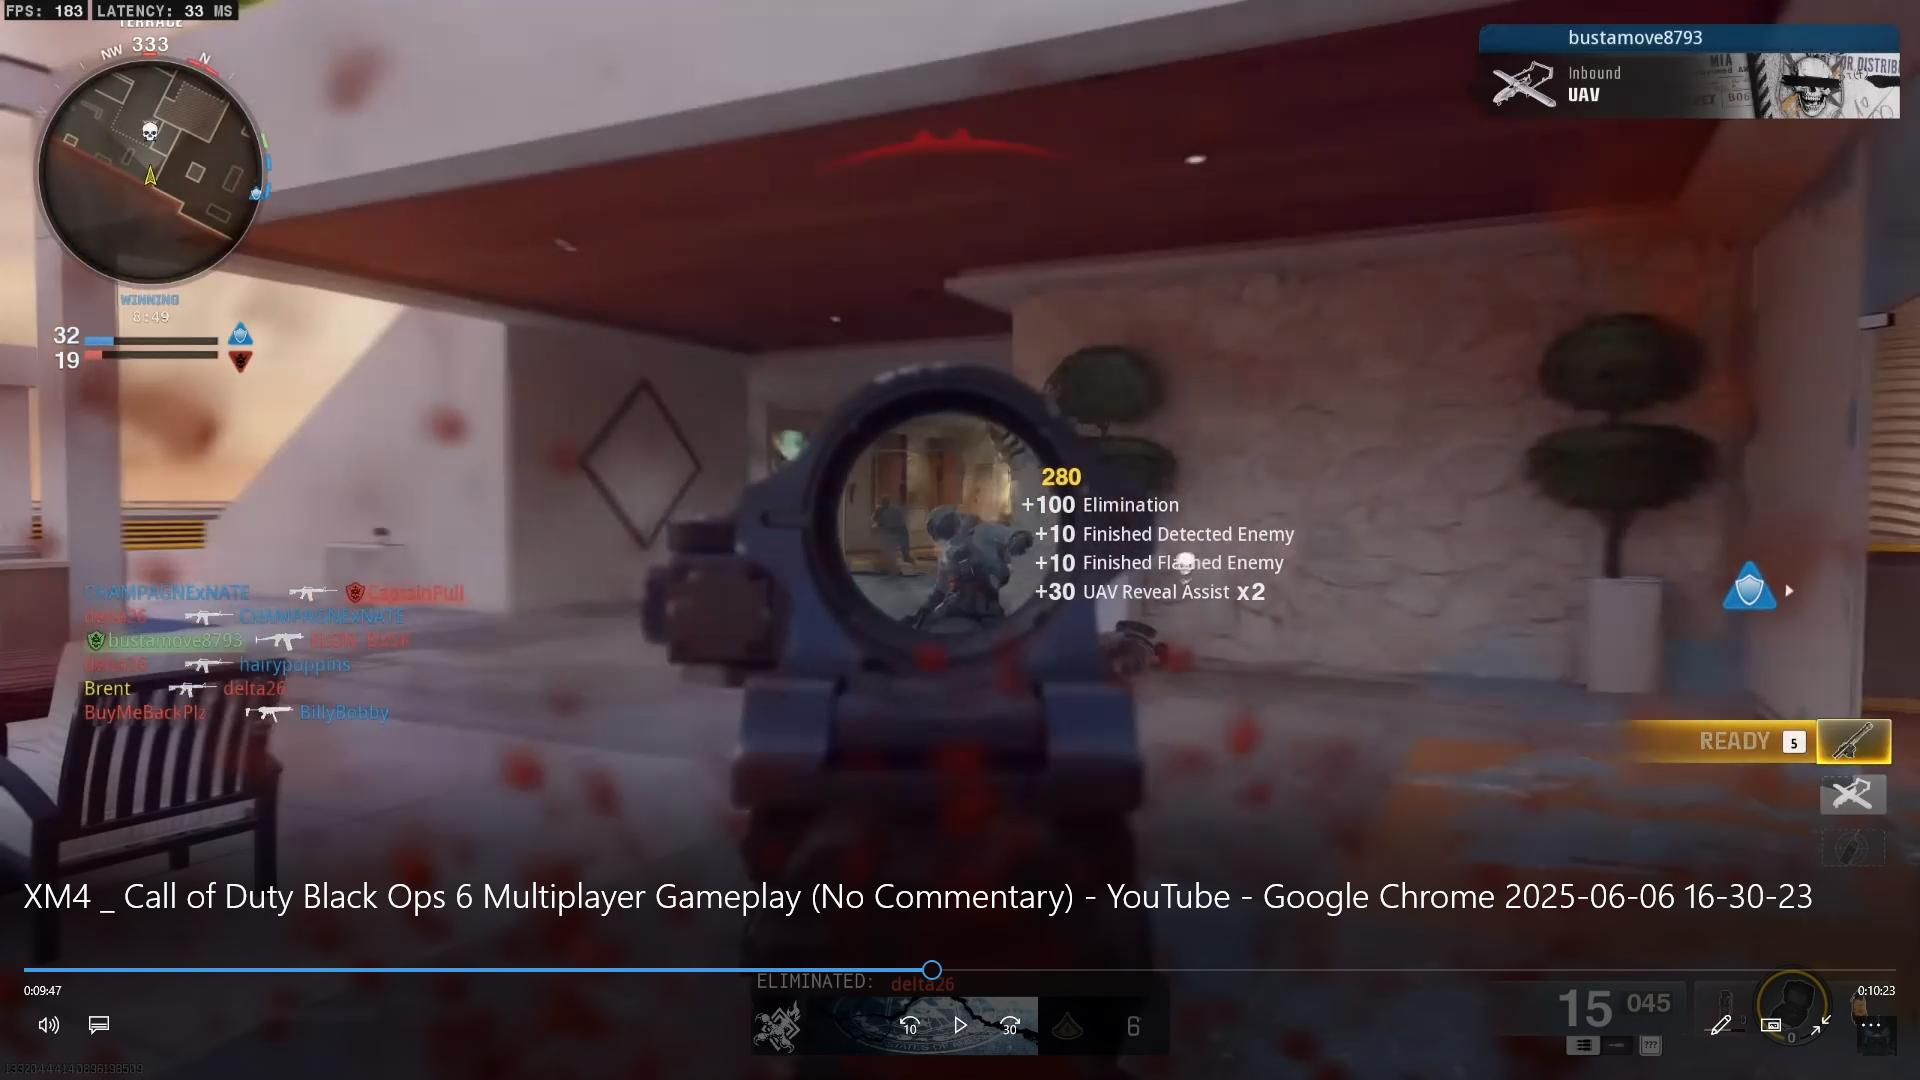Enemy: (919, 493, 1021, 607), (862, 491, 919, 572)
